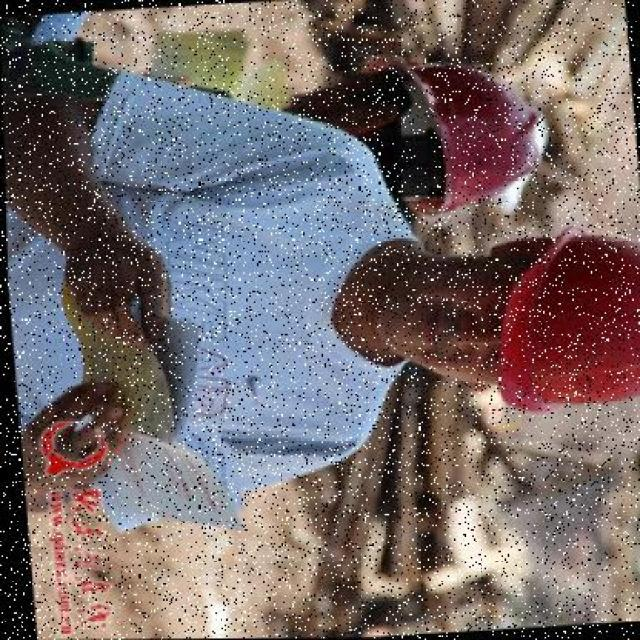helmet: (437, 213, 639, 442), (386, 19, 558, 234)
vest: (15, 65, 403, 513)
